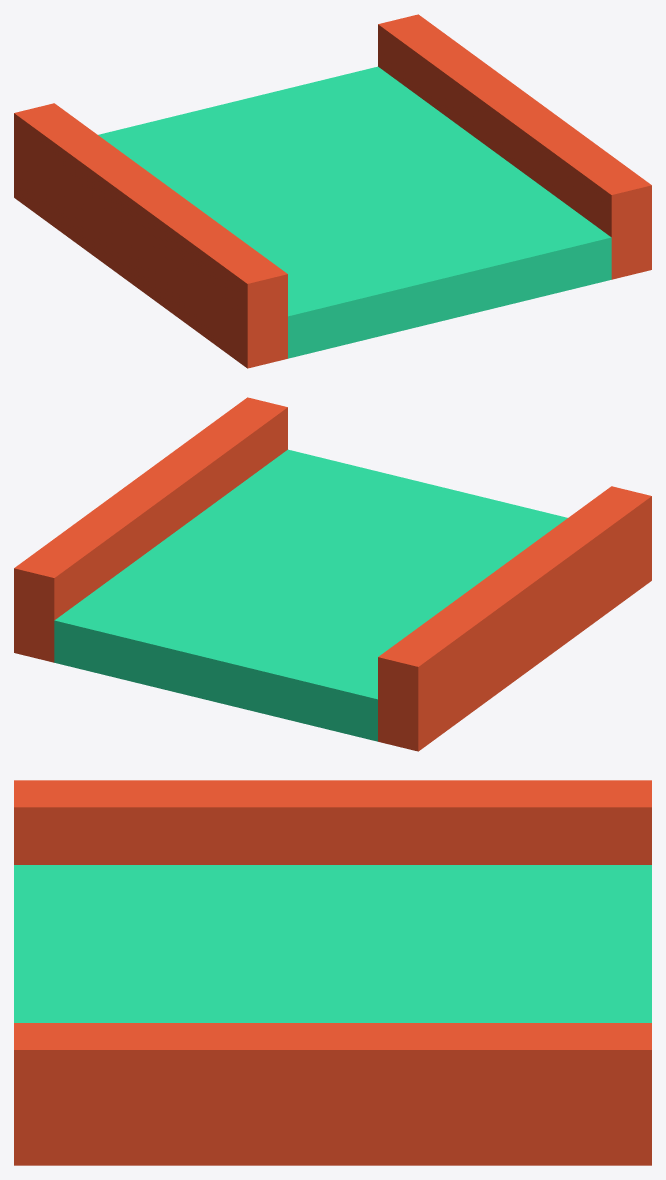
File: track_corridor.fbx
The picture shows the model from 3 angles, top to bottom: view 1: azimuth 30°, elevation 25°; view 2: azimuth 150°, elevation 25°; view 3: azimuth 270°, elevation 25°; orthographic projection. The views are drawn at different scales.
Parts seen in each view (by area): view 1: straight_50; view 2: straight_50; view 3: straight_50.
Part boxes in pixels (<box>): straight_50: <box>14,14,651,368</box>; straight_50: <box>14,397,651,751</box>; straight_50: <box>14,780,651,1165</box>.
Bounding box in the file's own units: 10 × 2 × 10.
